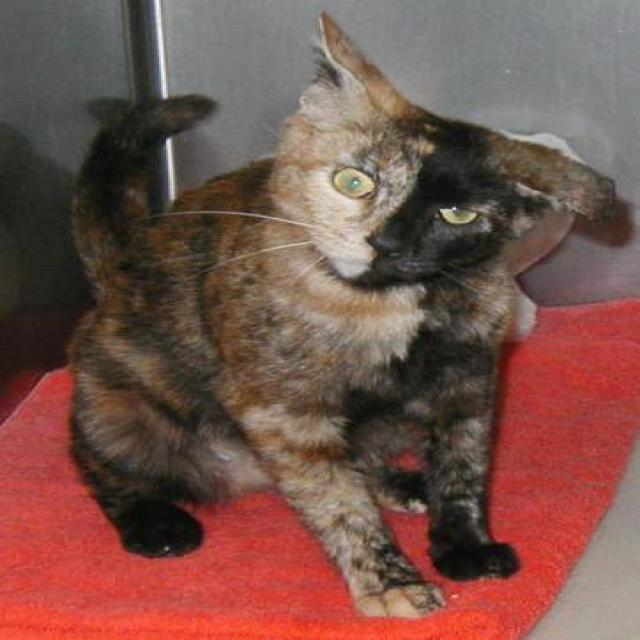cat: (62, 11, 615, 620)
